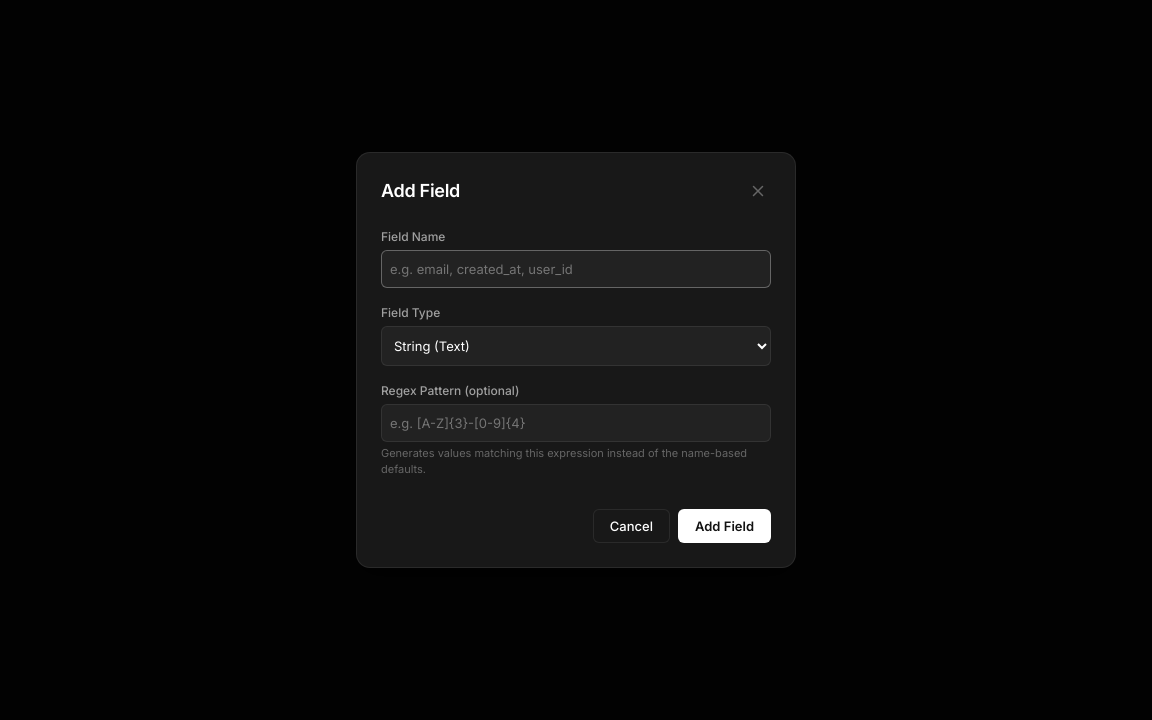
Test: FieldModal — validation › requires a field name
Step 1. Click the button "Add Field" → (724,526), box x1=678 y1=509 x2=771 y2=543
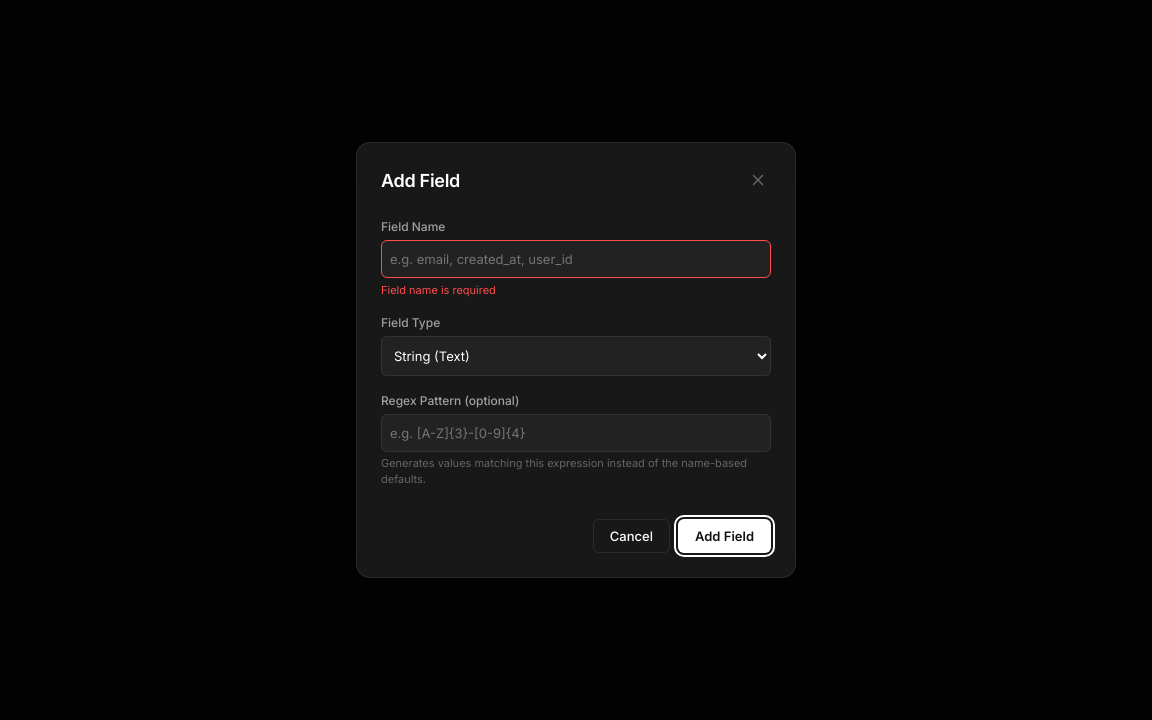
Result: the text "Field name is required" is shown at x1=381 y1=283 x2=496 y2=297
